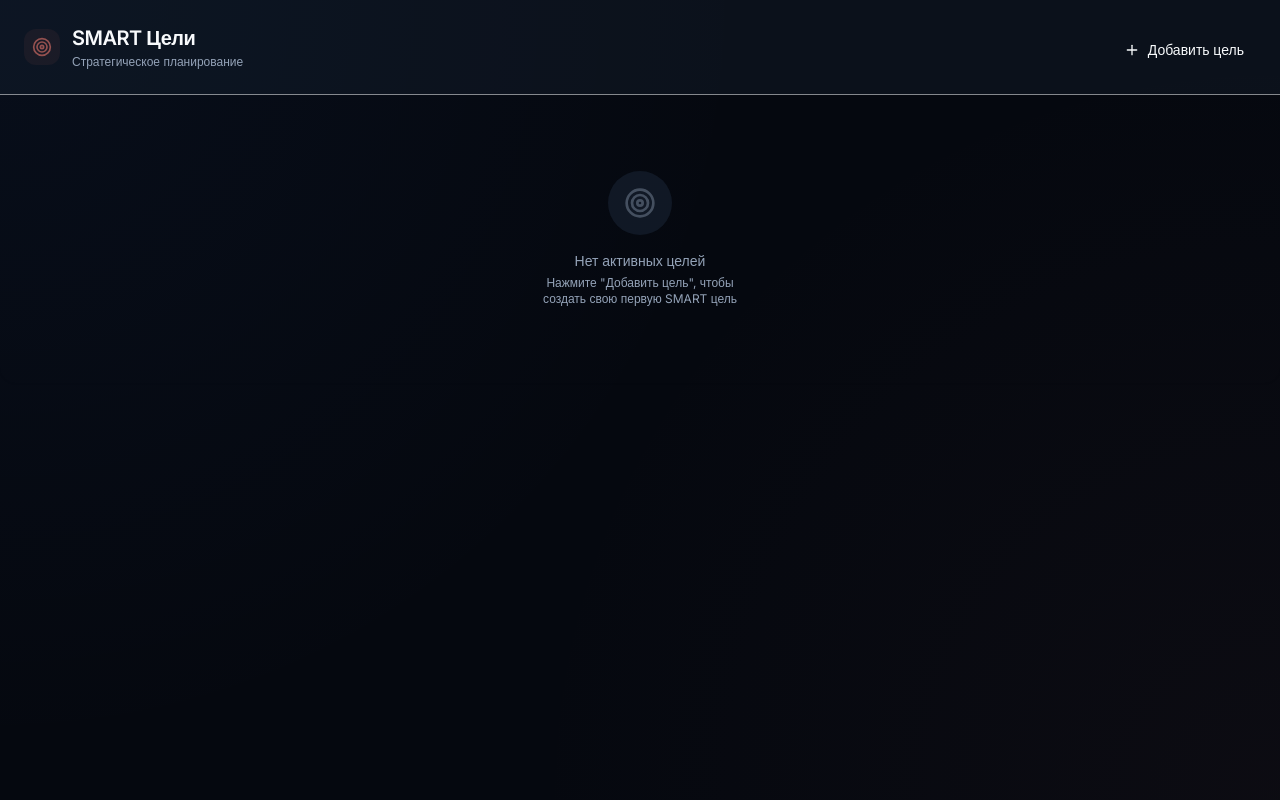
Test case: SmartGoals Component › opens dialog when clicking add button
Step 1. Click the button "Добавить цель" → click(1184, 50), box [1112, 32, 1256, 68]
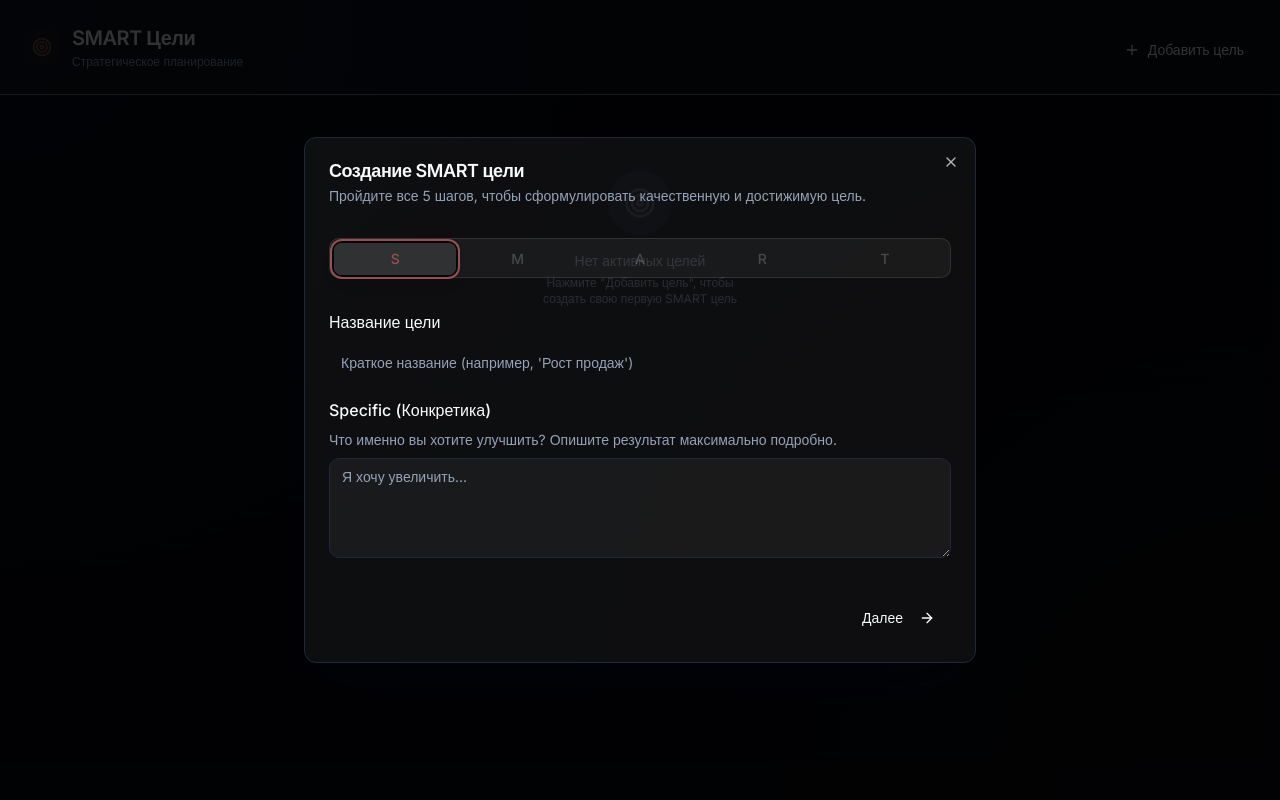
expect the heading "Создание SMART цели" is shown: met, box [329, 160, 524, 181]
expect the text "Specific (Конкретика)" is shown: met, box [329, 400, 491, 420]
